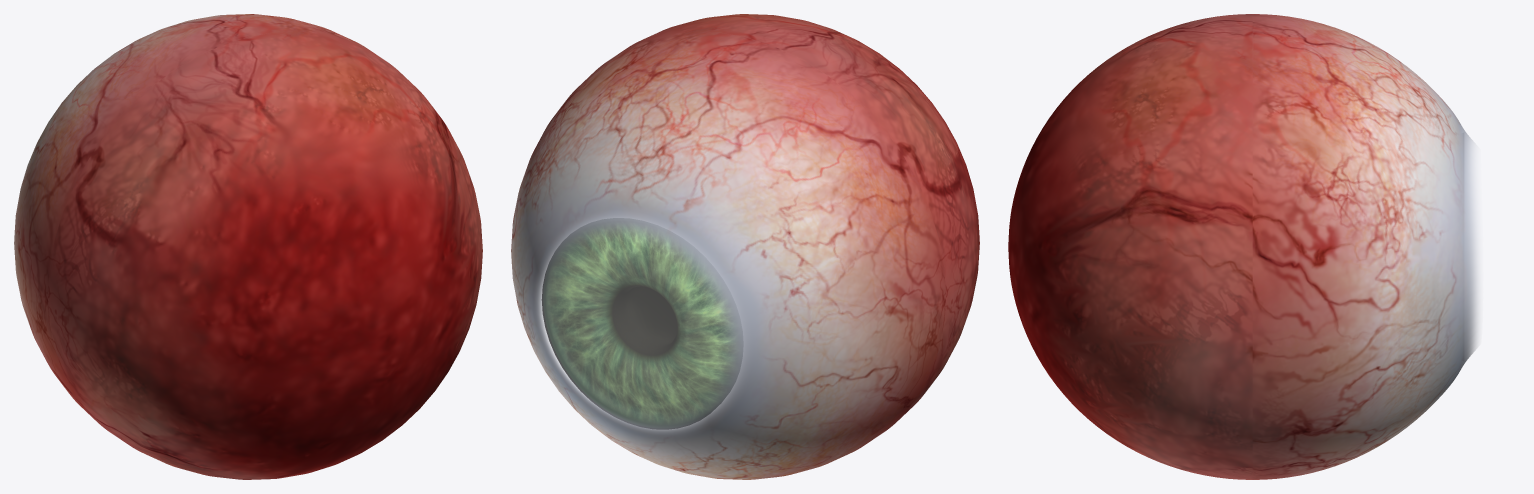
Rendered from eye_blend.glb.
3 views of the same model, side by side, from view 1: azimuth 30°, elevation 25°; view 2: azimuth 150°, elevation 25°; view 3: azimuth 270°, elevation 25° (orthographic).
Parts seen in each view (by area): view 1: Sclera; view 2: Sclera, Iris; view 3: Sclera.
Part boxes in pixels (box(x1,y1,x2,y2)): Sclera: box(14, 14, 482, 479); Sclera: box(511, 14, 979, 479); Iris: box(541, 218, 741, 429); Sclera: box(1008, 14, 1479, 479).
Bounding box in the file's own units: 229 × 229 × 251.
2 materials, 2 textured.
